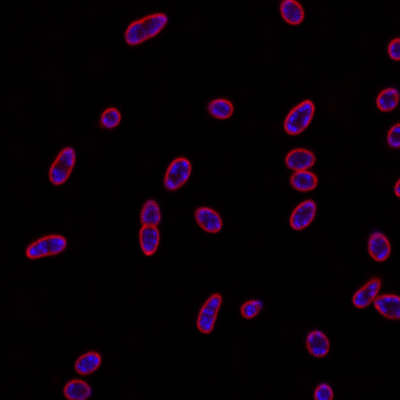Mecillinam: (124, 10, 168, 46), (138, 196, 162, 256), (282, 99, 317, 136), (192, 293, 223, 333), (25, 233, 68, 260), (49, 147, 77, 186), (165, 156, 194, 192), (348, 277, 381, 308), (192, 205, 224, 234), (289, 199, 318, 231), (304, 327, 331, 359), (71, 349, 102, 376), (283, 147, 317, 171), (288, 169, 321, 193), (277, 1, 307, 27), (375, 85, 398, 113)
Oblique: (366, 230, 392, 263), (205, 96, 234, 121), (62, 377, 93, 399), (238, 298, 266, 317), (99, 106, 121, 130)
